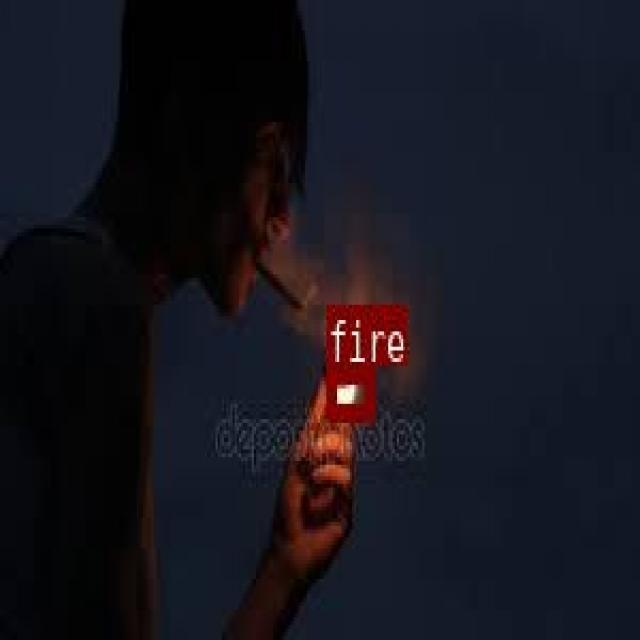fire: (326, 363, 372, 419)
